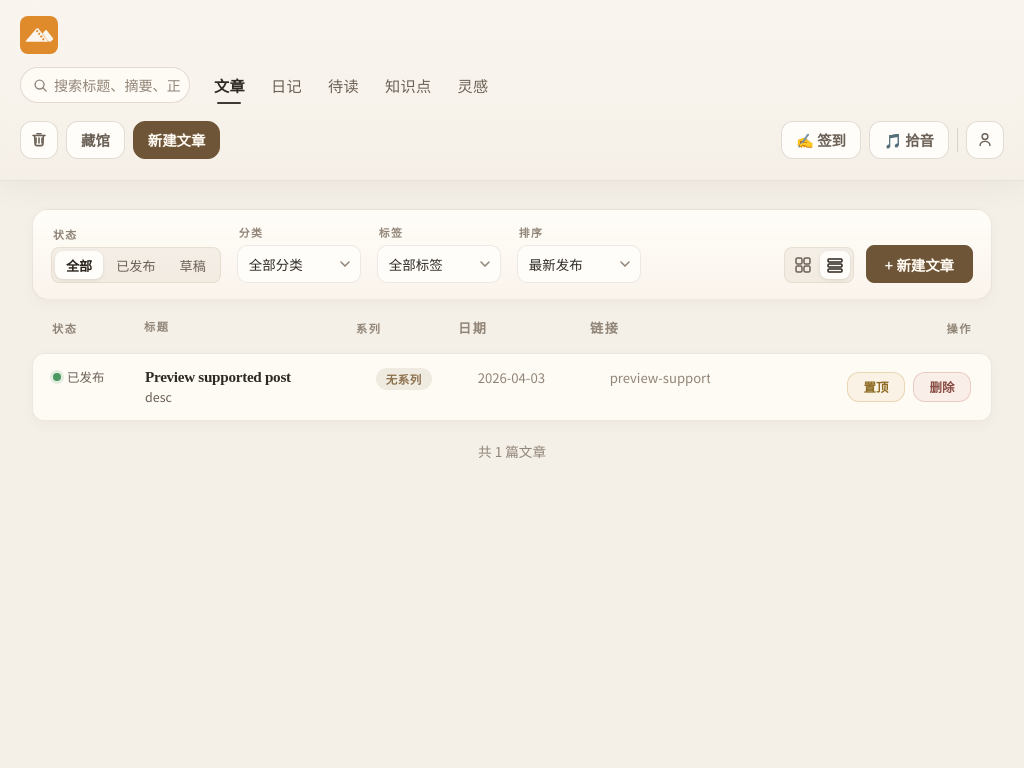
App preview mode › renders bare mermaid content as a diagram in preview mode
Check: the text "Preview supported post" is shown, box [145,368,291,386]
Click the button "Preview supported post" at (86, 377), box [53,368,831,406]
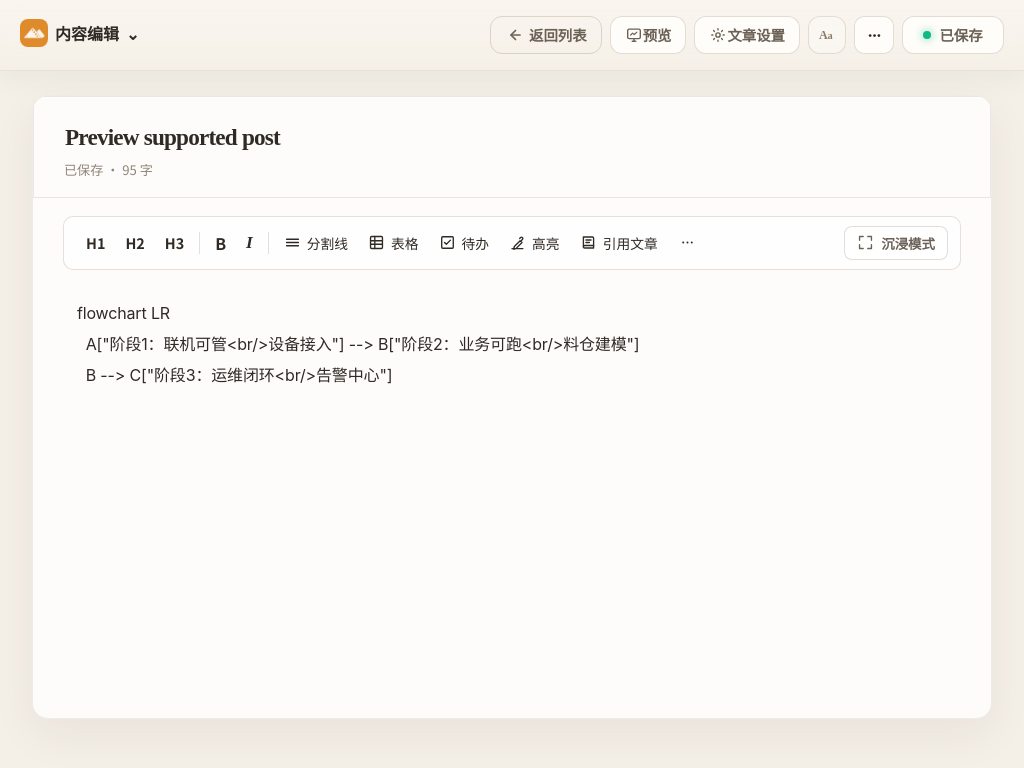
Check: the text box named "Markdown 编辑器" is shown, box [63,270,961,688]
Click the button "预览" at (648, 35), box [610,16,686,54]
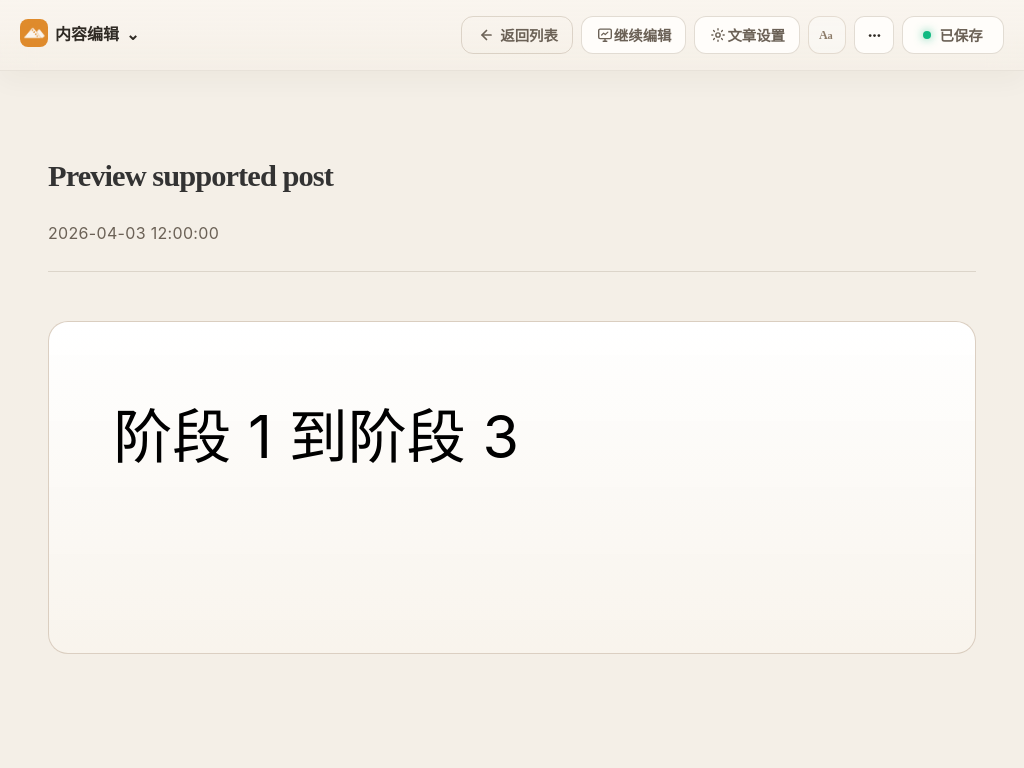
Check: the heading "Preview supported post" is shown, box [48,159,333,193]
Check: the icon "阶段 1 到阶段 3" is shown, box [69,340,955,635]
